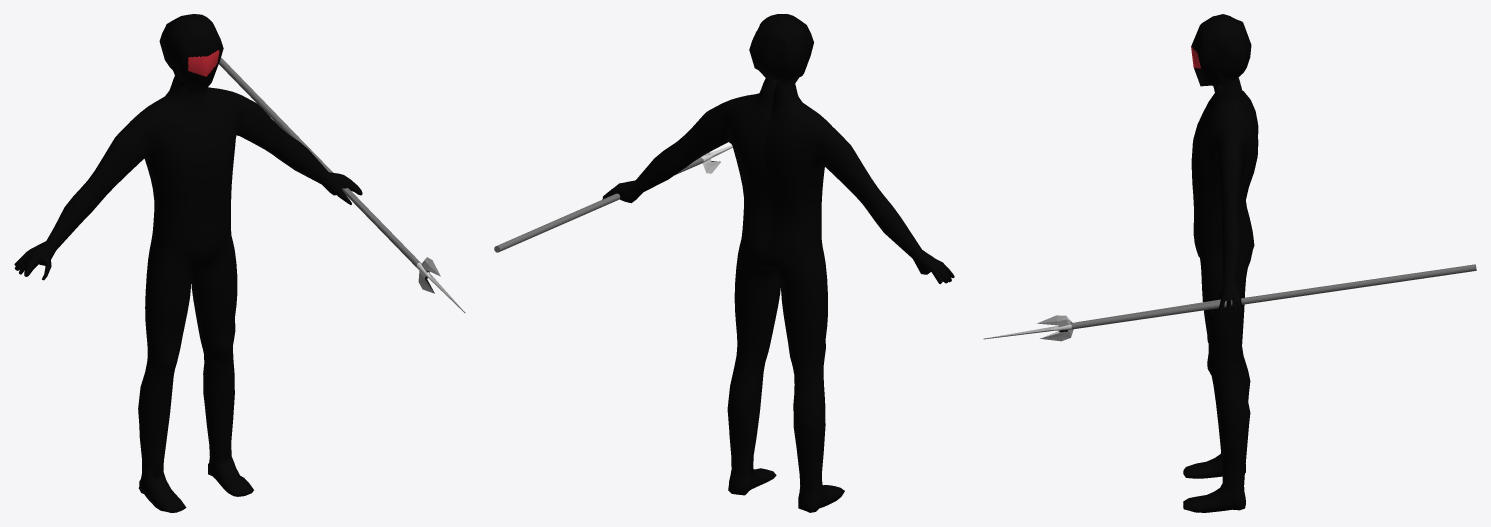
Rendered from boss.obj.
3 views of the same model, side by side, from view 1: azimuth 30°, elevation 25°; view 2: azimuth 150°, elevation 25°; view 3: azimuth 270°, elevation 25° (orthographic).
Visible parts, largest first — view 1: Cube_Cube.001; view 2: Cube_Cube.001; view 3: Cube_Cube.001.
Boxes of the visible parts, x1,y1,x2,y2 form: Cube_Cube.001: (14, 14, 465, 512); Cube_Cube.001: (494, 14, 954, 512); Cube_Cube.001: (983, 14, 1476, 512).
Size of the model in its own units: 5.41 by 7.2 by 6.77.
Materials: 1 (1 with a texture image).
